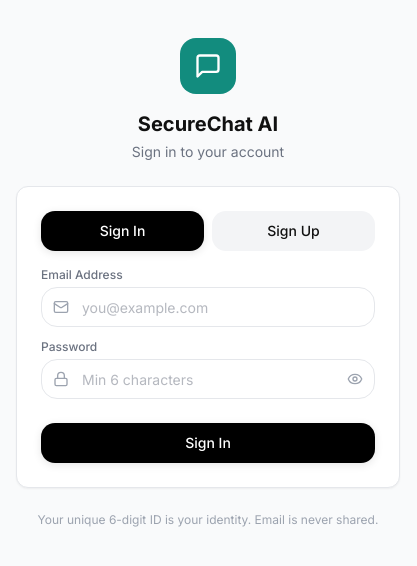
Test: LoginPage Component Tests › handles login error states gracefully
Type "wrong@example.com" into the field with placeholder "you@example.com" at [208, 307], box [41,287,375,327]
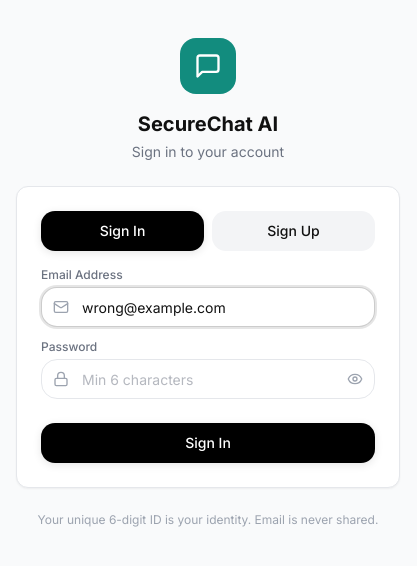
Type "wrongpass" into the password field with placeholder "Min 6 characters" at [208, 379], box [41,359,375,399]
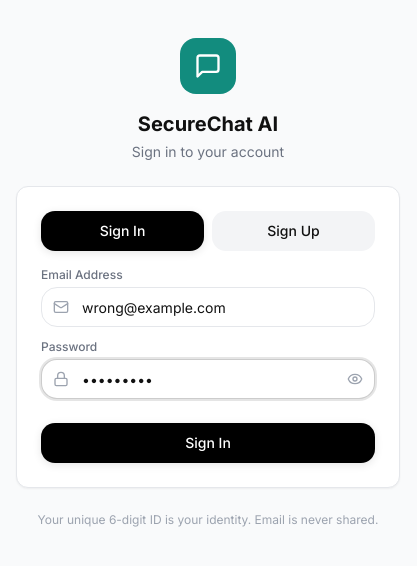
Click the button "Sign In" below "Password" at [208, 443], box [41,423,375,463]
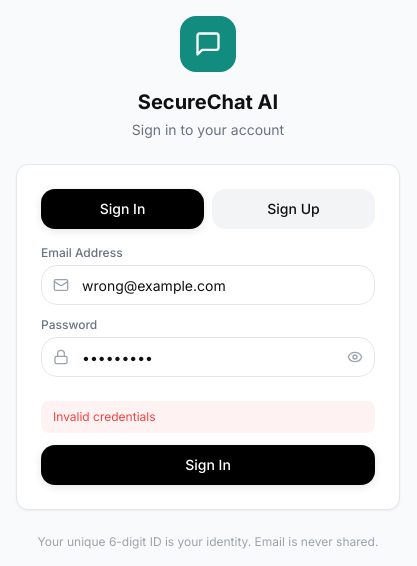
Now the text "Invalid credentials" is shown, box [41,401,375,433]
